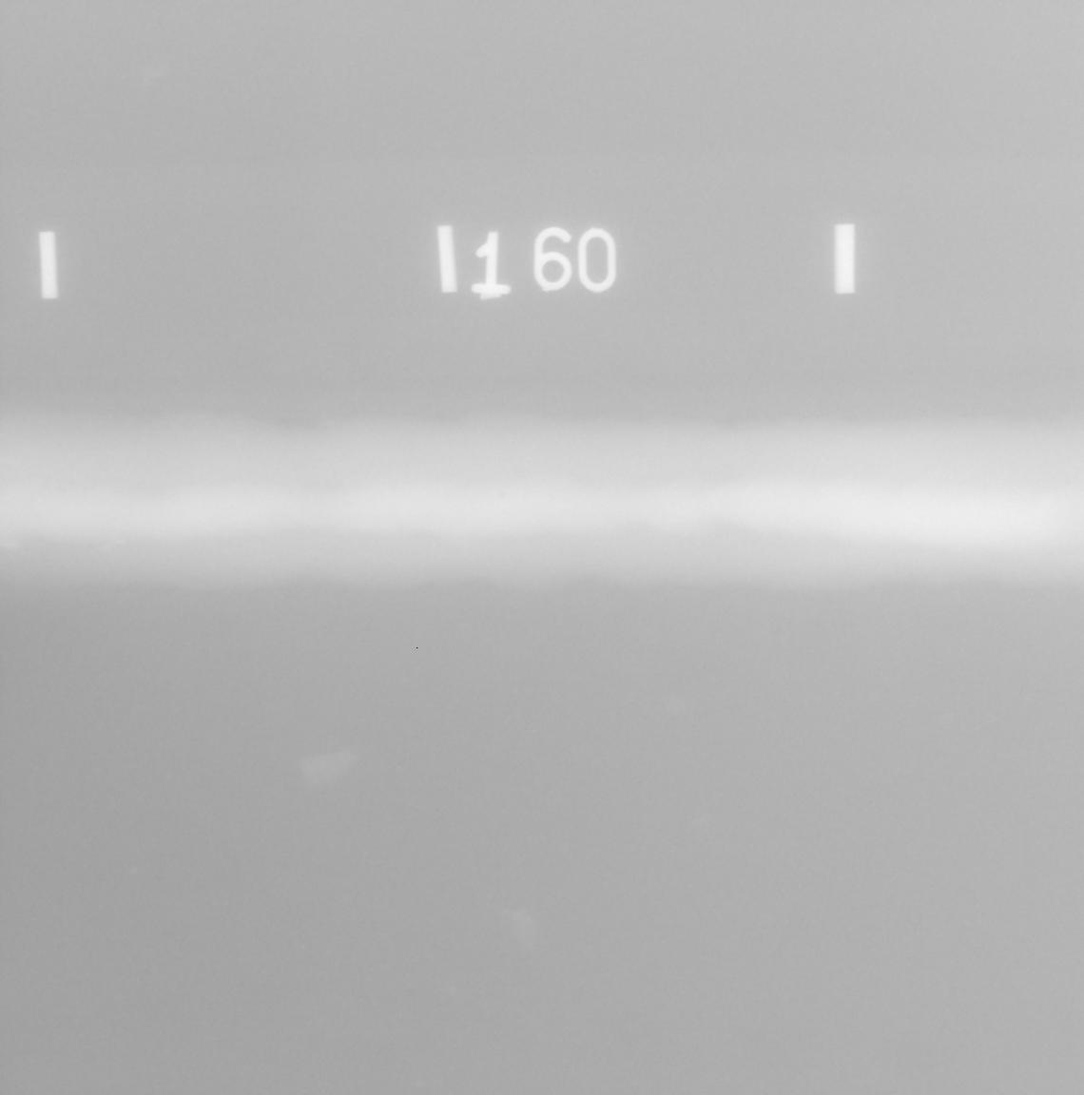Pore/Porosity: (498, 492, 505, 498)
